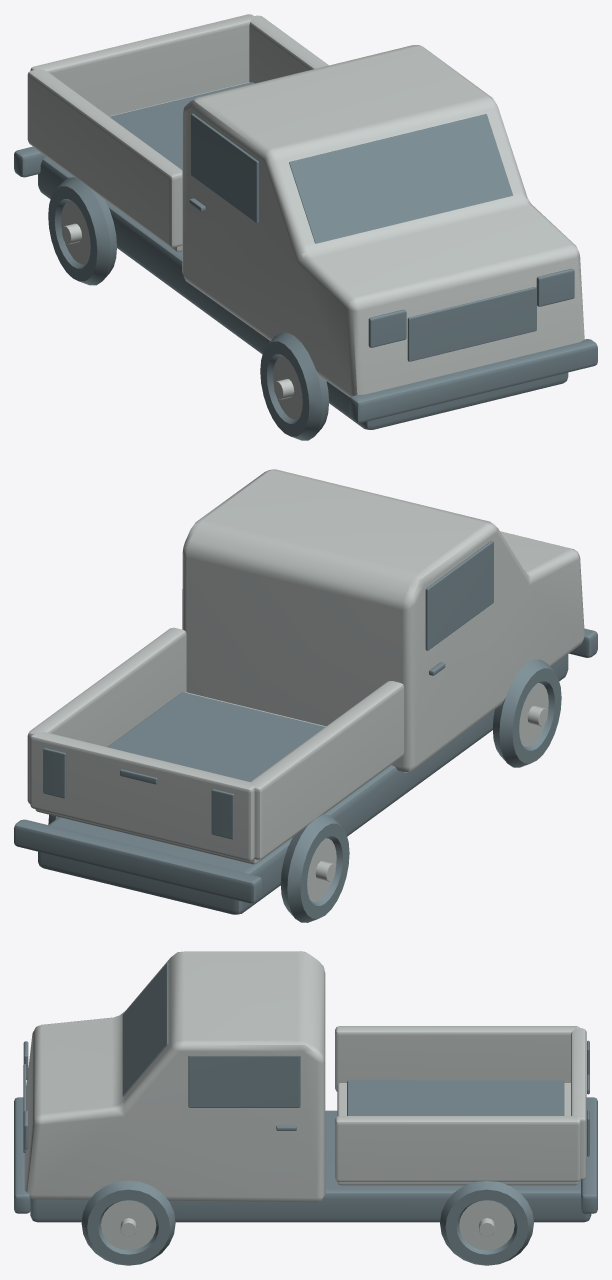
File: pickup-truck.glb
The picture shows the model from 3 angles, top to bottom: view 1: azimuth 30°, elevation 25°; view 2: azimuth 150°, elevation 25°; view 3: azimuth 270°, elevation 25°; orthographic projection. The views are drawn at different scales.
Visible parts, largest first — view 1: front_cab, front_glass, bed_side, tailgate, chassis, bumper, grille, side_window, truck_wheel_tire, truck_wheel_tire.001, bed_side.001, bed_inner (+5 smaller); view 2: front_cab, tailgate, bed_side, chassis, bed_inner, bed_side.001, bumper.001, side_window, truck_wheel_tire, truck_wheel_tire.001, tail_lamp, tail_lamp.001 (+3 smaller); view 3: front_cab, bed_side.001, bed_side, chassis, bed_inner, side_window.001, truck_wheel_tire.003, truck_wheel_tire.002, front_glass, truck_wheel_wheel_face.002, truck_wheel_wheel_face.003, tailgate (+3 smaller).
Boxes of the visible parts, <box> form: front_cab: <box>182,45,584,397</box>; front_glass: <box>289,114,512,243</box>; bed_side: <box>27,68,182,247</box>; tailgate: <box>30,14,253,116</box>; chassis: <box>38,157,568,429</box>; bumper: <box>349,339,597,422</box>; grille: <box>407,287,536,361</box>; side_window: <box>191,113,258,223</box>; truck_wheel_tire: <box>48,177,116,285</box>; truck_wheel_tire.001: <box>260,332,328,440</box>; bed_side.001: <box>249,15,328,83</box>; bed_inner: <box>109,82,254,169</box>; front_cab: <box>182,469,584,772</box>; tailgate: <box>30,732,254,860</box>; bed_side: <box>250,681,404,859</box>; chassis: <box>38,654,568,914</box>; bed_inner: <box>107,692,324,781</box>; bed_side.001: <box>27,627,186,803</box>; bumper.001: <box>14,819,262,903</box>; side_window: <box>425,541,493,650</box>; truck_wheel_tire: <box>280,814,349,922</box>; truck_wheel_tire.001: <box>492,659,561,767</box>; tail_lamp: <box>211,789,234,839</box>; tail_lamp.001: <box>43,748,66,798</box>; front_cab: <box>24,951,325,1202</box>; bed_side.001: <box>335,1116,580,1181</box>; bed_side: <box>335,1026,579,1091</box>; chassis: <box>30,1110,591,1222</box>; bed_inner: <box>347,1080,564,1115</box>; side_window.001: <box>188,1055,300,1107</box>; truck_wheel_tire.003: <box>81,1180,175,1265</box>; truck_wheel_tire.002: <box>440,1181,533,1265</box>; front_glass: <box>122,963,168,1096</box>; truck_wheel_wheel_face.002: <box>459,1200,514,1250</box>; truck_wheel_wheel_face.003: <box>101,1200,156,1250</box>; tailgate: <box>571,1028,586,1179</box>.
Size of the model in its own units: 2.14 by 2.03 by 4.84.
